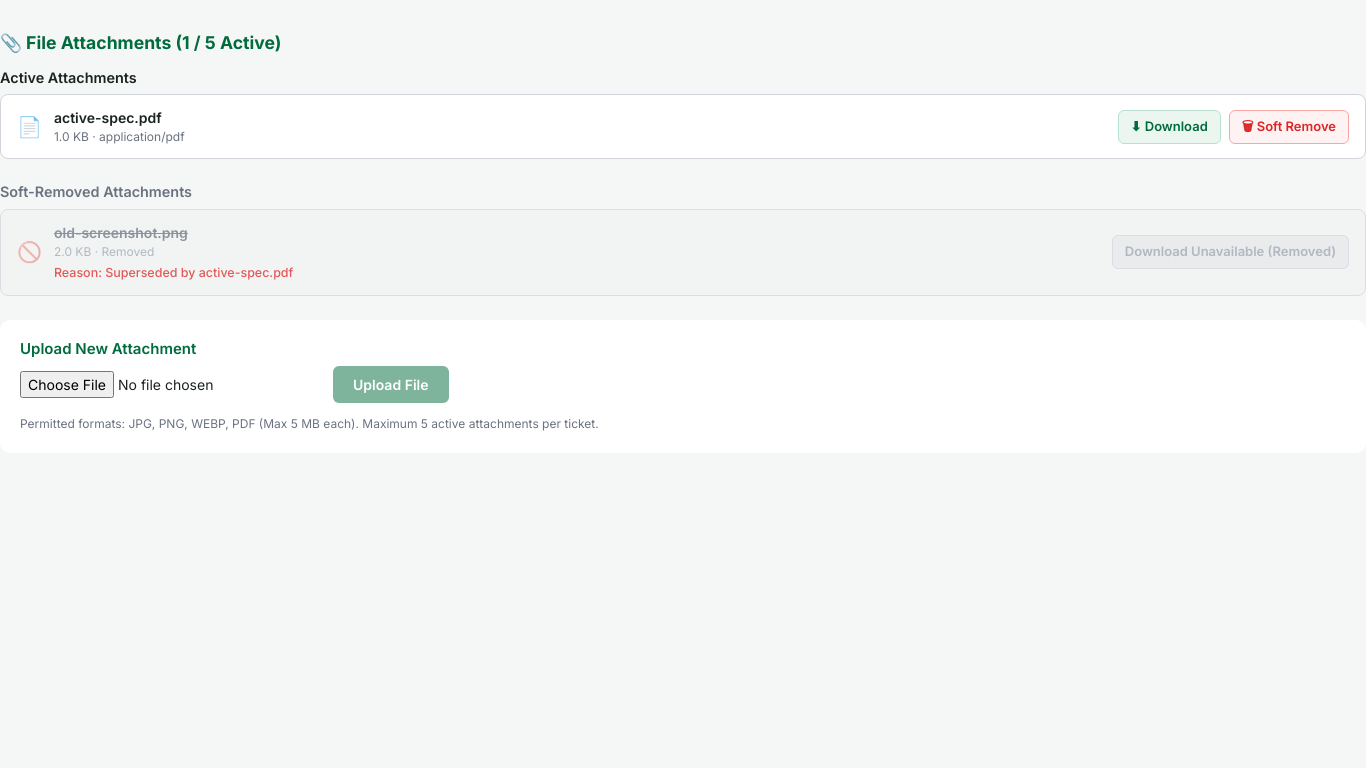
AttachmentSection Component › validates mandatory removal reason field in soft removal modal
Click the button "🗑 Soft Remove". click: (1289, 127)
box: [1229,110,1349,144]
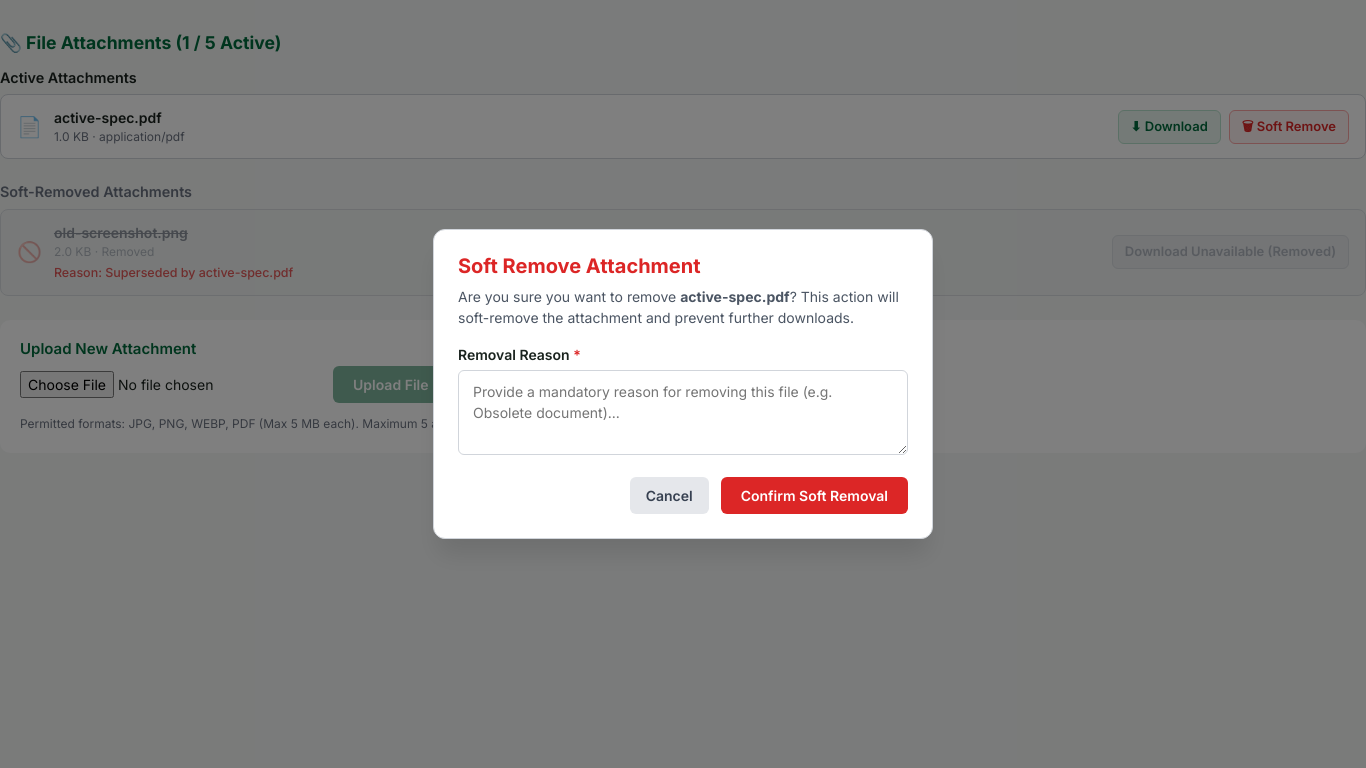
Click the button "Confirm Soft Removal". click: (814, 496)
box: [721,477,908,514]
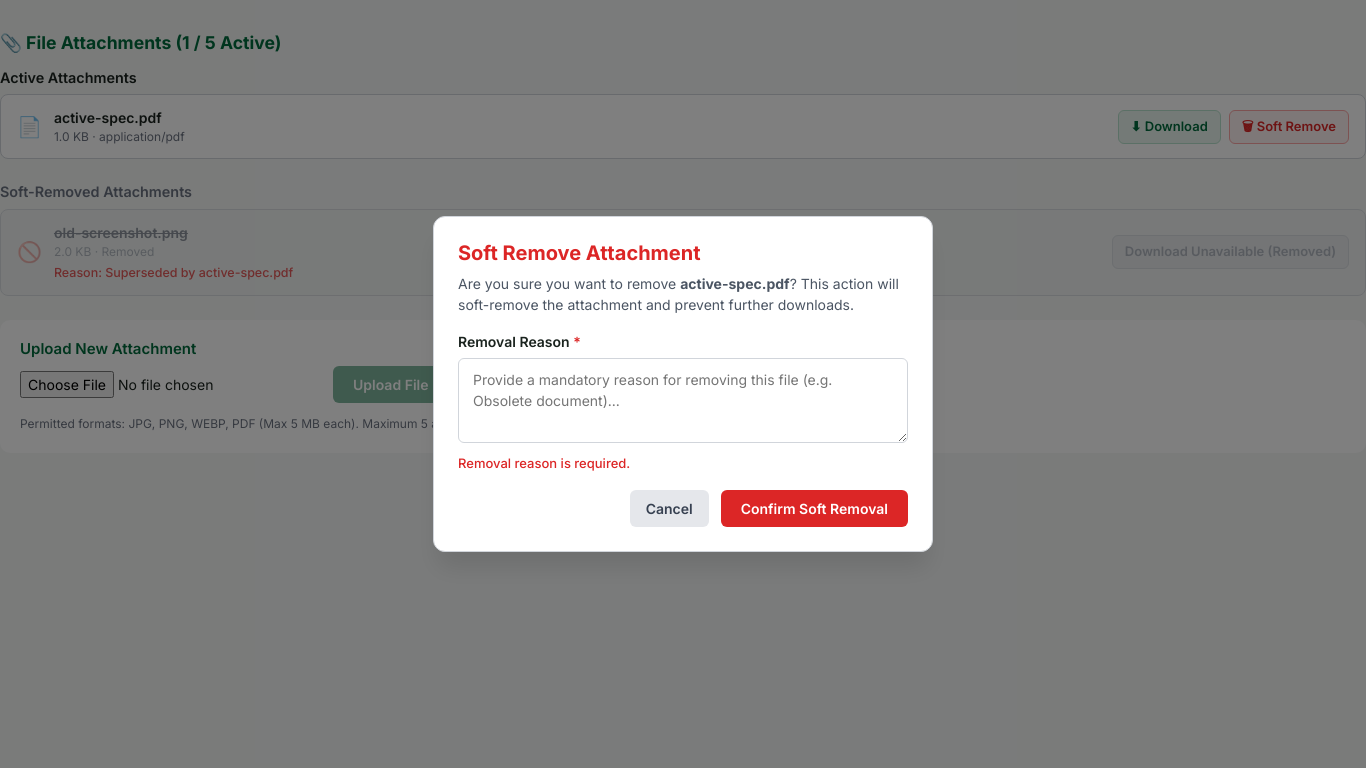
Check: the text "Removal reason is required." is shown, box [458,455,630,471]
